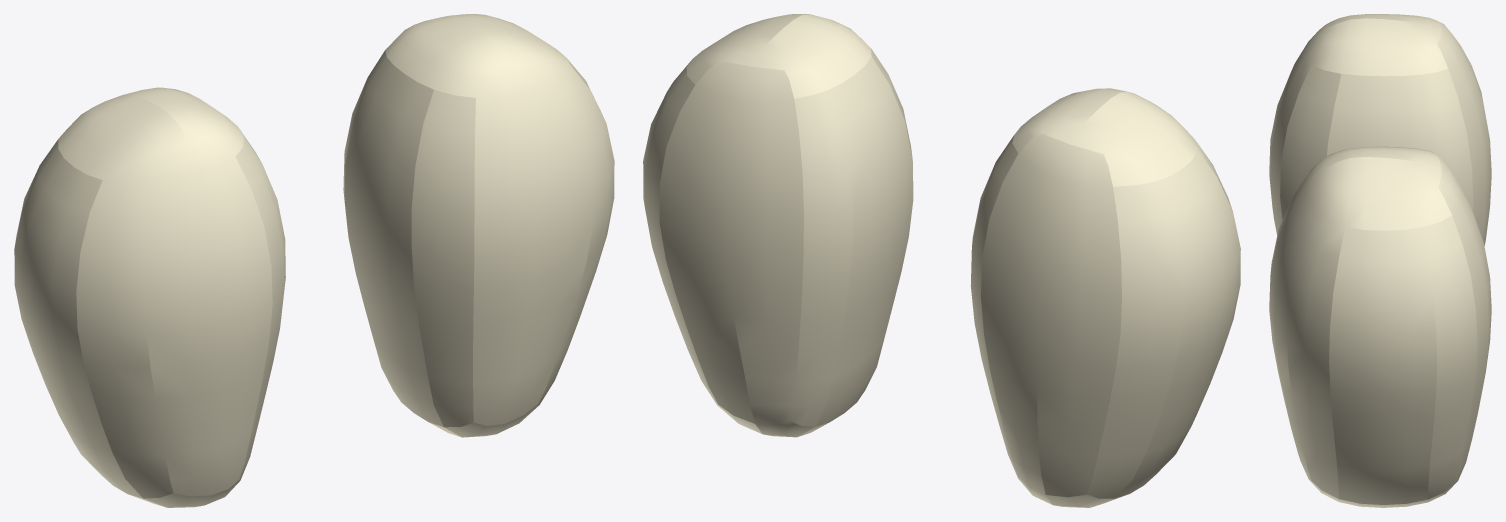
File: AstronautLegs.glb
3 renders of one model, left to right at view 1: azimuth 30°, elevation 25°; view 2: azimuth 150°, elevation 25°; view 3: azimuth 270°, elevation 25°, orthographic. The views are drawn at different scales.
Visible parts, largest first — view 1: AstronautLegs; view 2: AstronautLegs; view 3: AstronautLegs.
Part boxes in pixels (x1,y1,x2,y2): AstronautLegs: (14,14,614,507); AstronautLegs: (643,14,1240,507); AstronautLegs: (1269,14,1491,507).
Size of the model in its own units: 0.3403 by 0.2285 by 0.1319.
